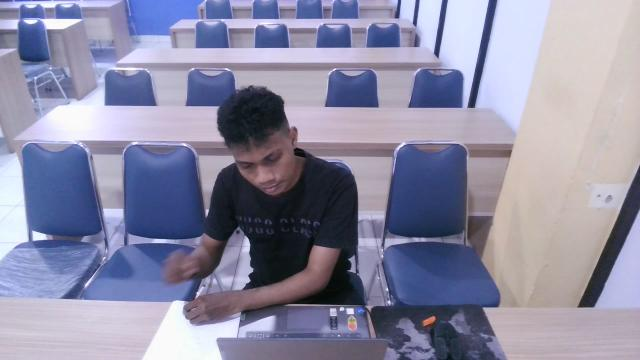Normal_Writing: (165, 70, 395, 360)
